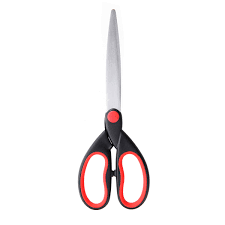tihiras: (75, 7, 152, 215)
